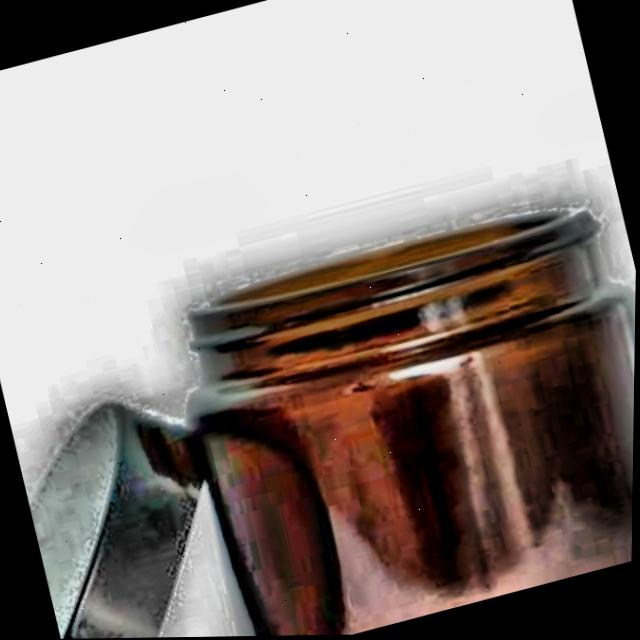glass: (183, 209, 637, 637)
